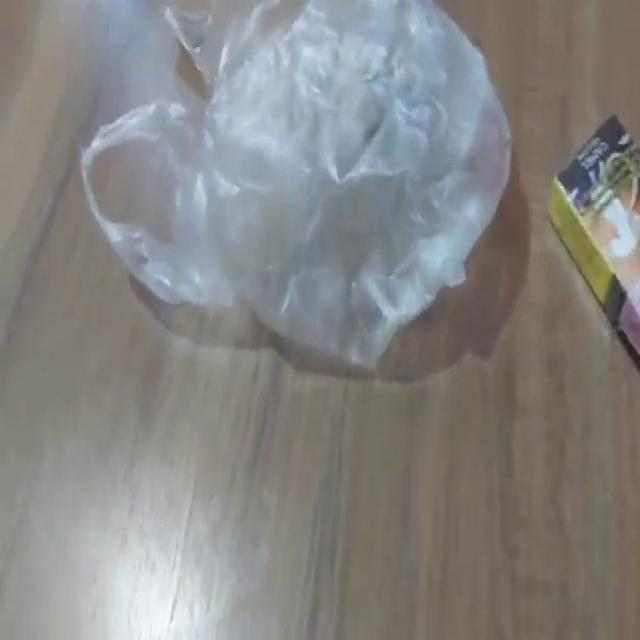Anorganik: (76, 2, 516, 377)
Organik: (547, 108, 640, 382)
